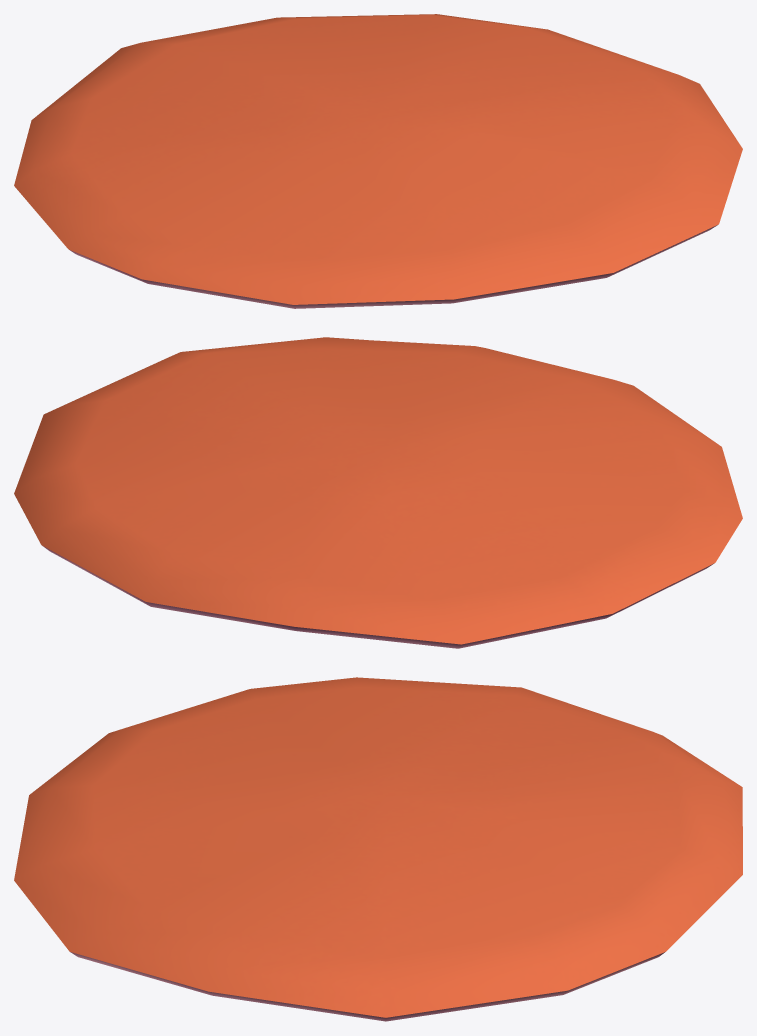
The model's file is MD_mushroom_table.fbx.
3 views of the same model, one above another, from view 1: azimuth 30°, elevation 25°; view 2: azimuth 150°, elevation 25°; view 3: azimuth 270°, elevation 25° (orthographic). The views are drawn at different scales.
Parts seen in each view (by area): view 1: mushroom_table1; view 2: mushroom_table1; view 3: mushroom_table1.
Part boxes in pixels (x1=…): mushroom_table1: x1=14, y1=14, x2=742, y2=308; mushroom_table1: x1=14, y1=337, x2=742, y2=648; mushroom_table1: x1=14, y1=677, x2=742, y2=1021.
Bounding box in the file's own units: 204 × 46.5 × 186.
1 material, 1 textured.
